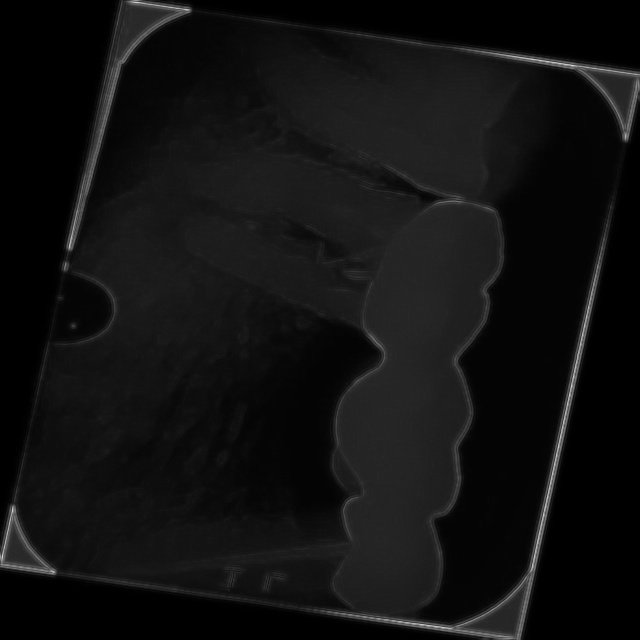Class 2- incomplete endodontic treatment: (141, 155, 463, 354)
